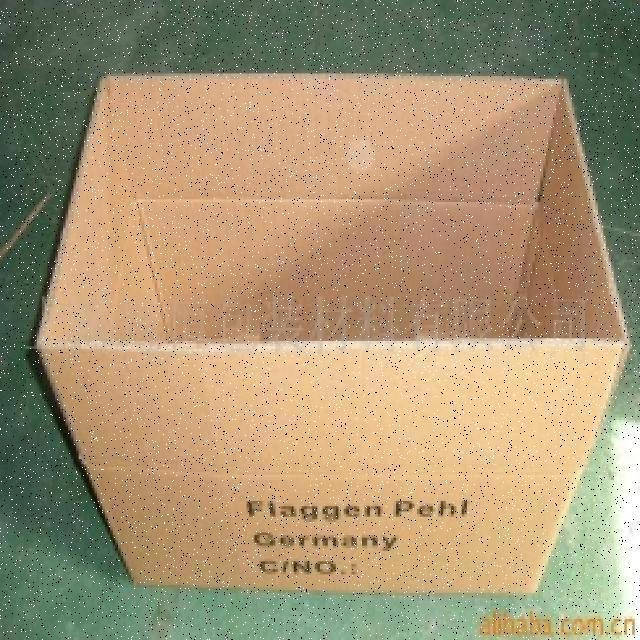box: (29, 60, 619, 640)
